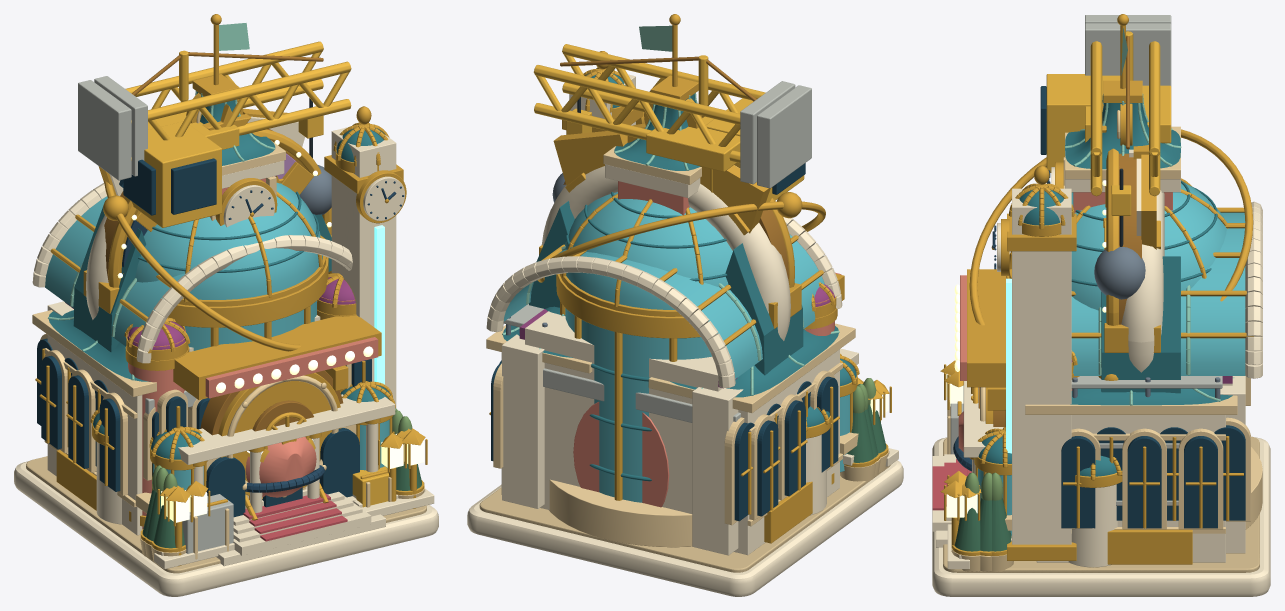
Rendered from expansion-specials.glb.
The picture shows the model from 3 angles, left to right: view 1: azimuth 30°, elevation 25°; view 2: azimuth 150°, elevation 25°; view 3: azimuth 270°, elevation 25°; orthographic projection. The views are drawn at different scales.
Parts seen in each view (by area): view 1: expansion_civic_hall_geometry, expansion_builders_guild_geometry, expansion_rush_station_geometry, expansion_vault_bank_geometry, expansion_card_pavilion_geometry, expansion_teleport_gate_geometry, expansion_chance_wheel_geometry, life_expansion_wheel_rotor_geometry, life_expansion_crane_pendulum_geometry; view 2: expansion_rush_station_geometry, expansion_builders_guild_geometry, expansion_vault_bank_geometry, expansion_civic_hall_geometry, expansion_card_pavilion_geometry, expansion_teleport_gate_geometry, expansion_chance_wheel_geometry, life_expansion_wheel_rotor_geometry, life_expansion_crane_pendulum_geometry; view 3: expansion_rush_station_geometry, expansion_civic_hall_geometry, expansion_builders_guild_geometry, expansion_teleport_gate_geometry, expansion_card_pavilion_geometry, expansion_vault_bank_geometry, expansion_chance_wheel_geometry, life_expansion_wheel_rotor_geometry, life_expansion_crane_pendulum_geometry.
Boxes of the visible parts, x1,y1,x2,y2 form: expansion_civic_hall_geometry: [14, 14, 438, 596]; expansion_builders_guild_geometry: [14, 41, 438, 594]; expansion_rush_station_geometry: [32, 106, 424, 565]; expansion_vault_bank_geometry: [16, 93, 436, 595]; expansion_card_pavilion_geometry: [15, 108, 437, 596]; expansion_teleport_gate_geometry: [15, 161, 436, 596]; expansion_chance_wheel_geometry: [14, 104, 438, 596]; life_expansion_wheel_rotor_geometry: [104, 122, 331, 287]; life_expansion_crane_pendulum_geometry: [298, 98, 331, 214]; expansion_rush_station_geometry: [486, 51, 888, 555]; expansion_builders_guild_geometry: [467, 44, 903, 595]; expansion_vault_bank_geometry: [469, 98, 898, 596]; expansion_civic_hall_geometry: [468, 14, 901, 596]; expansion_card_pavilion_geometry: [467, 131, 903, 596]; expansion_teleport_gate_geometry: [467, 166, 899, 595]; expansion_chance_wheel_geometry: [469, 116, 902, 596]; life_expansion_wheel_rotor_geometry: [563, 123, 794, 287]; life_expansion_crane_pendulum_geometry: [552, 97, 591, 202]; expansion_rush_station_geometry: [945, 165, 1262, 571]; expansion_civic_hall_geometry: [932, 14, 1269, 596]; expansion_builders_guild_geometry: [932, 15, 1270, 593]; expansion_teleport_gate_geometry: [932, 190, 1270, 595]; expansion_card_pavilion_geometry: [932, 145, 1268, 596]; expansion_vault_bank_geometry: [932, 103, 1267, 582]; expansion_chance_wheel_geometry: [932, 102, 1270, 595]; life_expansion_wheel_rotor_geometry: [1102, 148, 1141, 325]; life_expansion_crane_pendulum_geometry: [1094, 168, 1145, 299].
Size of the model in its own units: 1.02 by 1.71 by 1.02.
